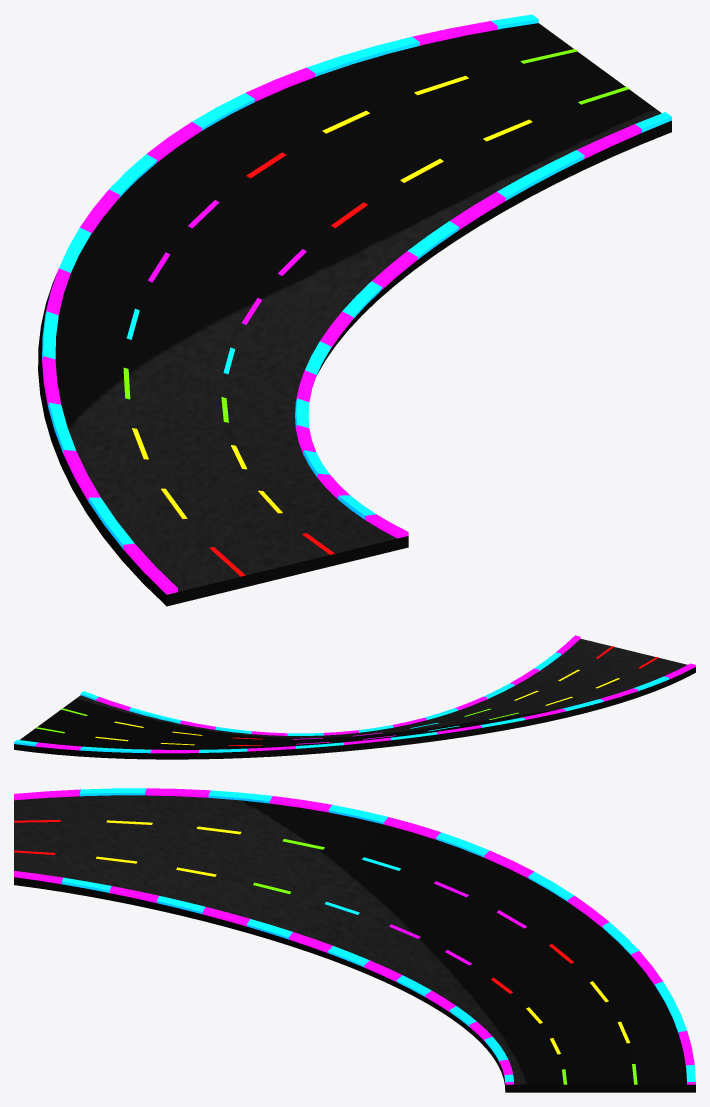
The model's file is TrackTurn90R_r20m.glb.
3 renders of one model, top to bottom at view 1: azimuth 30°, elevation 25°; view 2: azimuth 150°, elevation 25°; view 3: azimuth 270°, elevation 25°, orthographic. The views are drawn at different scales.
Visible parts, largest first — view 1: Floor, Curb.L, Curb.R, LaneLines; view 2: Floor, Curb.L, Curb.R, LaneLines; view 3: Floor, Curb.L, Curb.R, LaneLines.
Boxes of the visible parts, x1=… form: Floor: x1=38, y1=23, x2=671, y2=606; Curb.L: x1=42, y1=14, x2=538, y2=594; Curb.R: x1=295, y1=112, x2=671, y2=538; LaneLines: x1=123, y1=49, x2=629, y2=576; Floor: x1=14, y1=639, x2=695, y2=759; Curb.L: x1=14, y1=663, x2=695, y2=753; Curb.R: x1=80, y1=635, x2=580, y2=735; LaneLines: x1=35, y1=646, x2=658, y2=745; Floor: x1=14, y1=795, x2=695, y2=1092; Curb.L: x1=14, y1=788, x2=695, y2=1084; Curb.R: x1=14, y1=870, x2=513, y2=1084; LaneLines: x1=14, y1=820, x2=637, y2=1084.
Size of the model in its own units: 23.25 by 2.7 by 23.25.
Materials: 8 (1 with a texture image).
